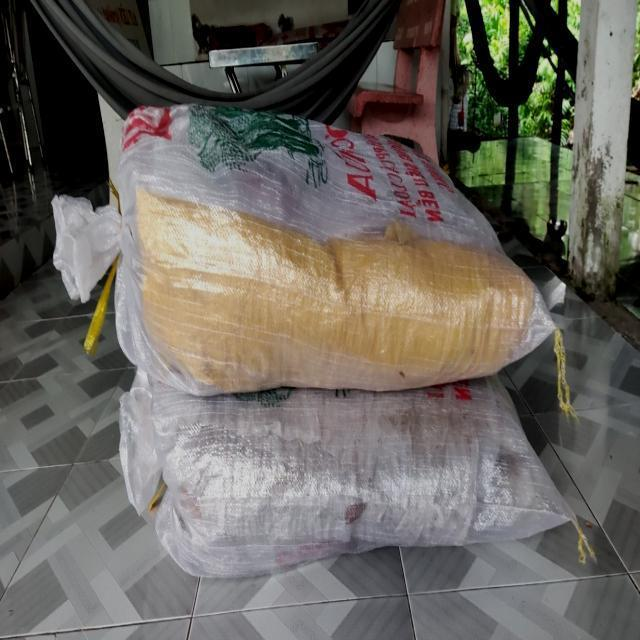gunny_bag: (115, 103, 553, 393), (118, 368, 576, 577)
